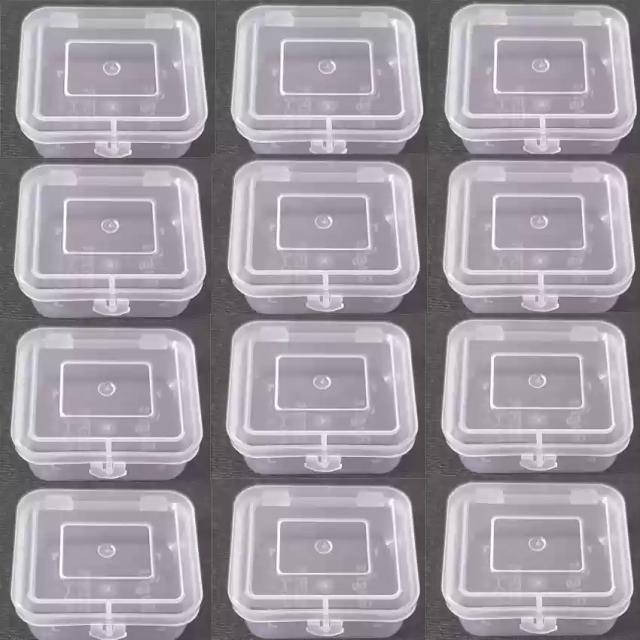Single-Use-Plastic: (441, 482, 632, 636), (226, 321, 418, 474), (228, 485, 420, 638), (228, 161, 419, 314), (16, 6, 208, 158), (15, 165, 205, 318), (11, 328, 202, 480), (442, 320, 632, 472), (444, 161, 635, 312), (11, 489, 202, 640), (445, 4, 636, 153), (231, 5, 422, 153)
